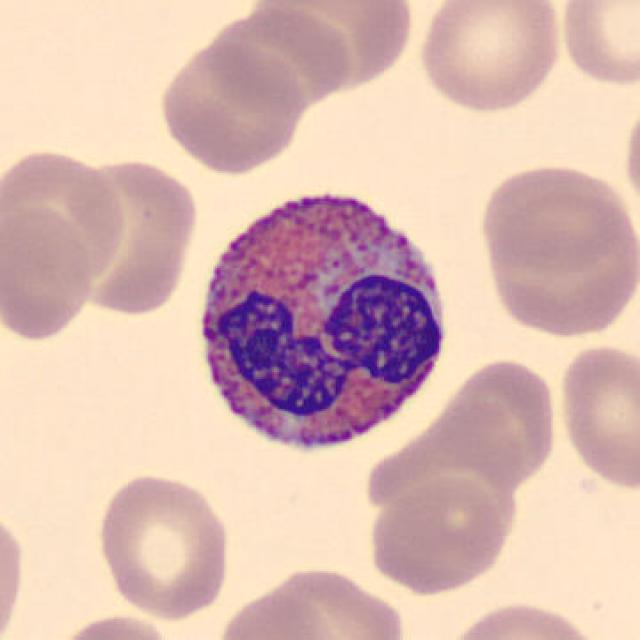Eosinophil: (183, 169, 459, 467)
RBC: (473, 159, 638, 342), (64, 150, 204, 321), (93, 469, 235, 622), (155, 37, 309, 176), (362, 471, 516, 596), (2, 144, 128, 294), (414, 0, 567, 116), (441, 354, 562, 488), (247, 0, 420, 92), (0, 199, 98, 344), (555, 338, 638, 496), (245, 564, 409, 638), (556, 0, 638, 90), (439, 597, 606, 640), (213, 589, 343, 640), (0, 500, 30, 640), (46, 610, 180, 640), (620, 86, 640, 224)
